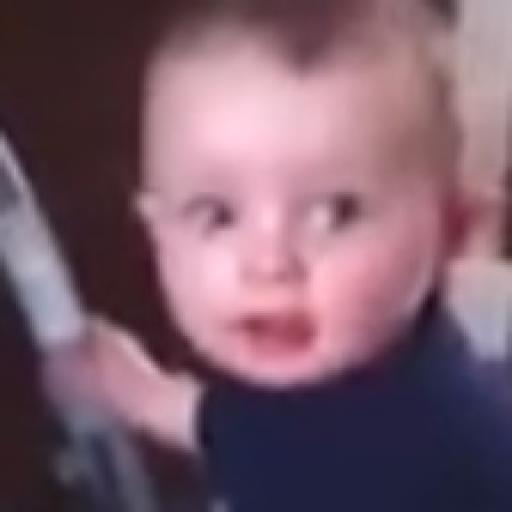Autism: (113, 25, 512, 492)
